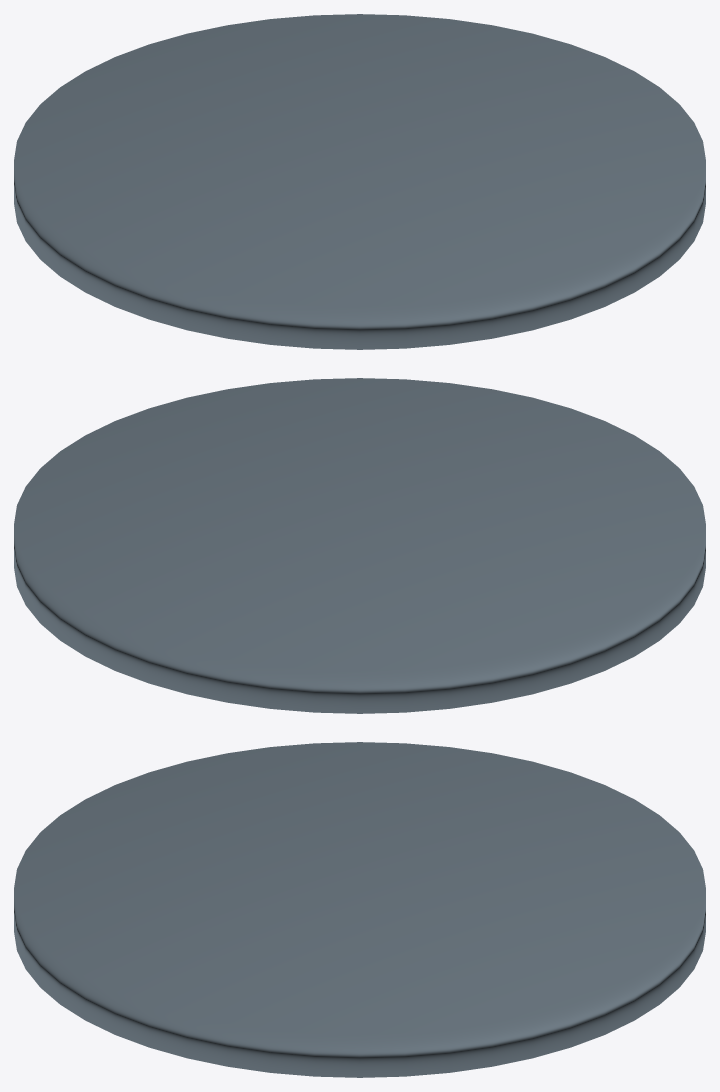
File: eagle_ascent.docking_tunnel.overhead_hatch.glb
3 renders of one model, top to bottom at view 1: azimuth 30°, elevation 25°; view 2: azimuth 150°, elevation 25°; view 3: azimuth 270°, elevation 25°, orthographic.
Parts seen in each view (by area): view 1: eagle_ascent.docking_tunnel.overhead_hatch.mesh; view 2: eagle_ascent.docking_tunnel.overhead_hatch.mesh; view 3: eagle_ascent.docking_tunnel.overhead_hatch.mesh.
Boxes of the visible parts, x1,y1,x2,y2 form: eagle_ascent.docking_tunnel.overhead_hatch.mesh: (14, 14, 705, 349); eagle_ascent.docking_tunnel.overhead_hatch.mesh: (14, 378, 705, 713); eagle_ascent.docking_tunnel.overhead_hatch.mesh: (14, 742, 705, 1077).
Bounding box in the file's own units: 0.824 × 0.057 × 0.824.
